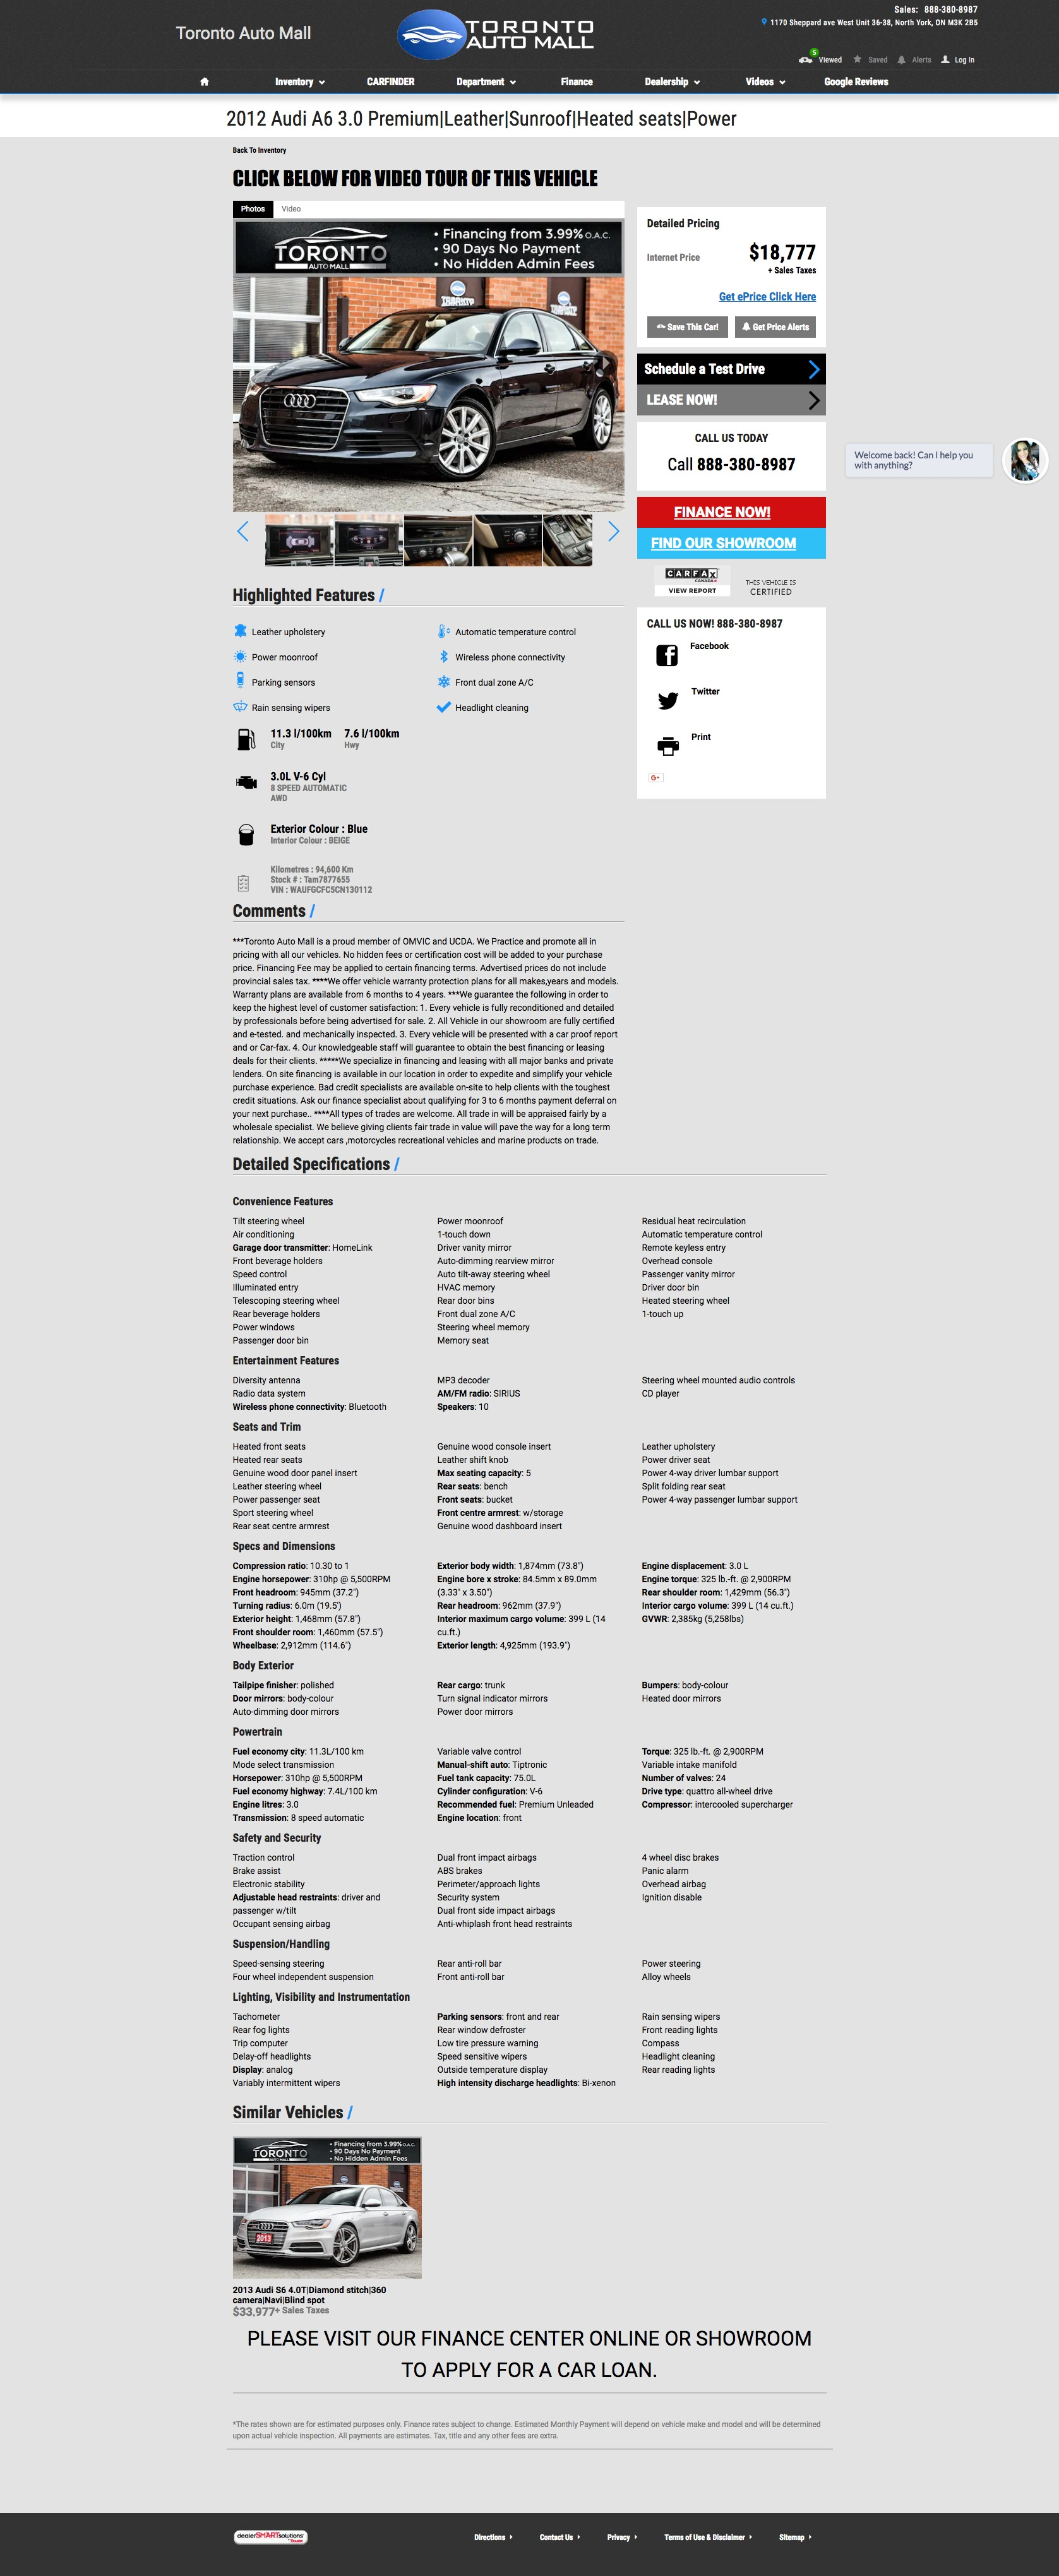car: (608, 521, 620, 544)
